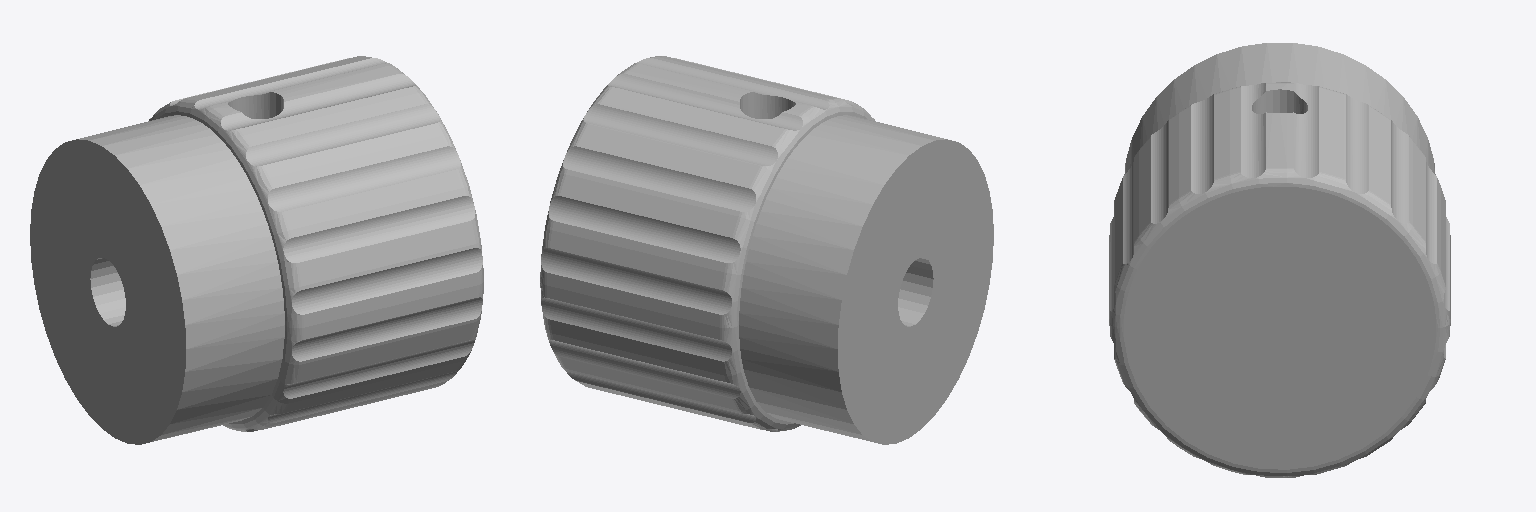
3 views of the same model, side by side, from view 1: azimuth 30°, elevation 25°; view 2: azimuth 150°, elevation 25°; view 3: azimuth 270°, elevation 25° (orthographic).
Parts seen in each view (by area): view 1: gn_436_1-24-b5-a-mt_1; view 2: gn_436_1-24-b5-a-mt_1; view 3: gn_436_1-24-b5-a-mt_1.
Part boxes in pixels (left/top/right/bottom): gn_436_1-24-b5-a-mt_1: left=30, top=56, right=483, bottom=444; gn_436_1-24-b5-a-mt_1: left=540, top=56, right=993, bottom=444; gn_436_1-24-b5-a-mt_1: left=1109, top=43, right=1450, bottom=477.
Size of the model in its own units: 24 by 23.99 by 24.